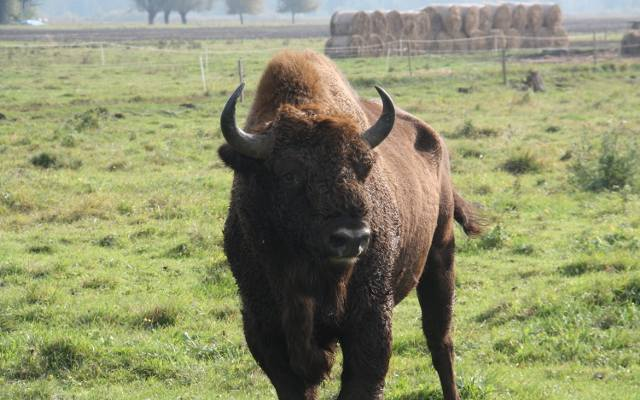zubr: (192, 27, 497, 400)
